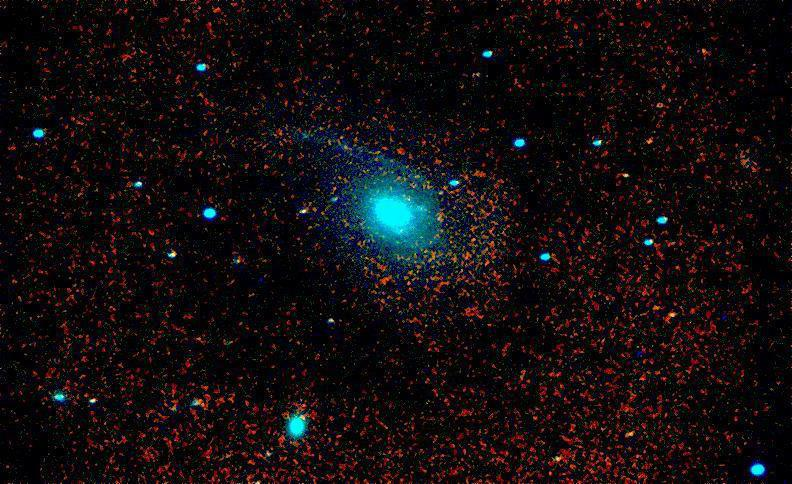star: (688, 35, 718, 65)
